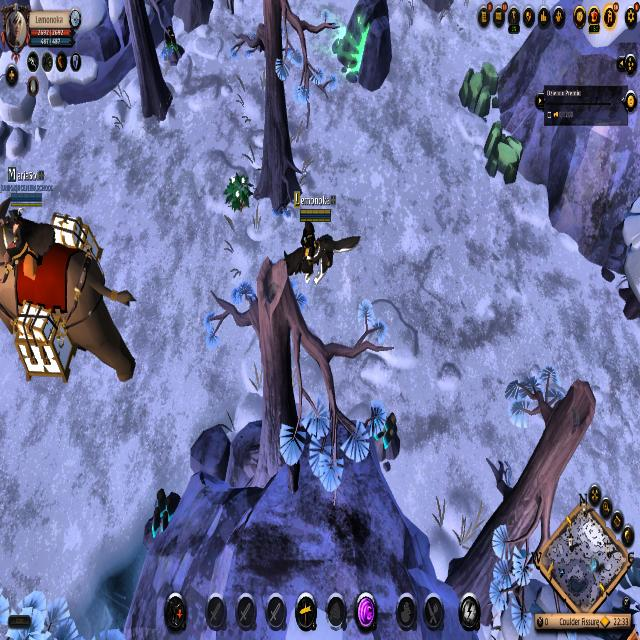fiber tier 3: (221, 169, 253, 212)
ore tier 4: (143, 481, 178, 543)
rock tier 3: (483, 118, 523, 186), (459, 58, 500, 124)
